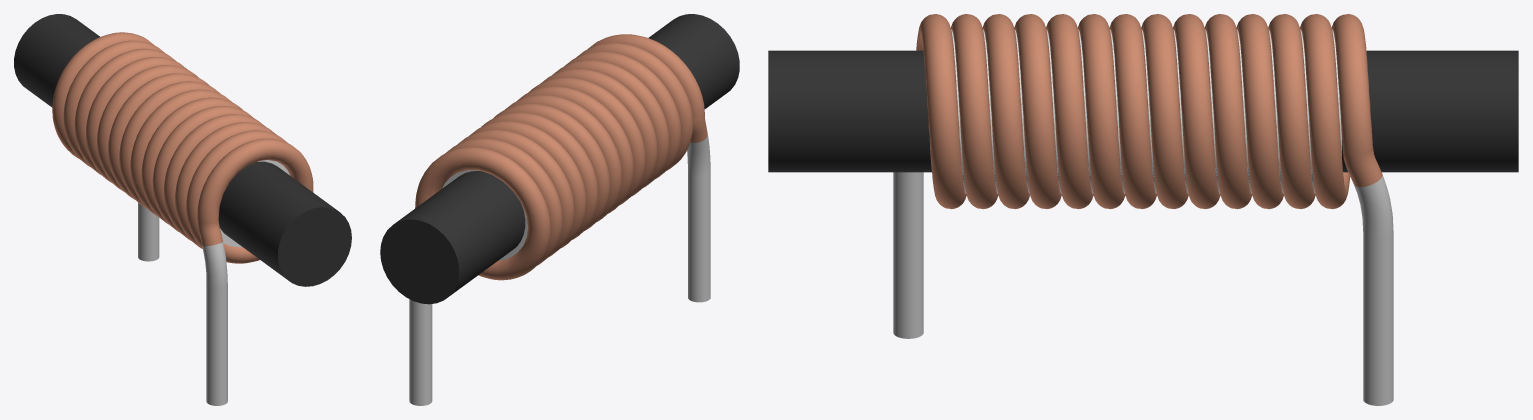
Rendered from WE-RCIT Rod Core Inductor THT.gltf.
The picture shows the model from 3 angles, left to right: view 1: azimuth 30°, elevation 25°; view 2: azimuth 150°, elevation 25°; view 3: azimuth 270°, elevation 25°; orthographic projection. The views are drawn at different scales.
Parts seen in each view (by area): view 1: coil, core; view 2: coil, core, glue; view 3: coil, core, glue.
Boxes of the visible parts, bbox=[...] form: coil: bbox=[52, 32, 313, 405]; core: bbox=[14, 14, 351, 286]; coil: bbox=[409, 34, 710, 405]; core: bbox=[380, 14, 739, 304]; glue: bbox=[442, 170, 527, 260]; coil: bbox=[893, 14, 1393, 405]; core: bbox=[768, 50, 1518, 172]; glue: bbox=[951, 29, 1341, 193].
Bounding box in the file's own units: 0.0032 × 0.0062 × 0.0123.
